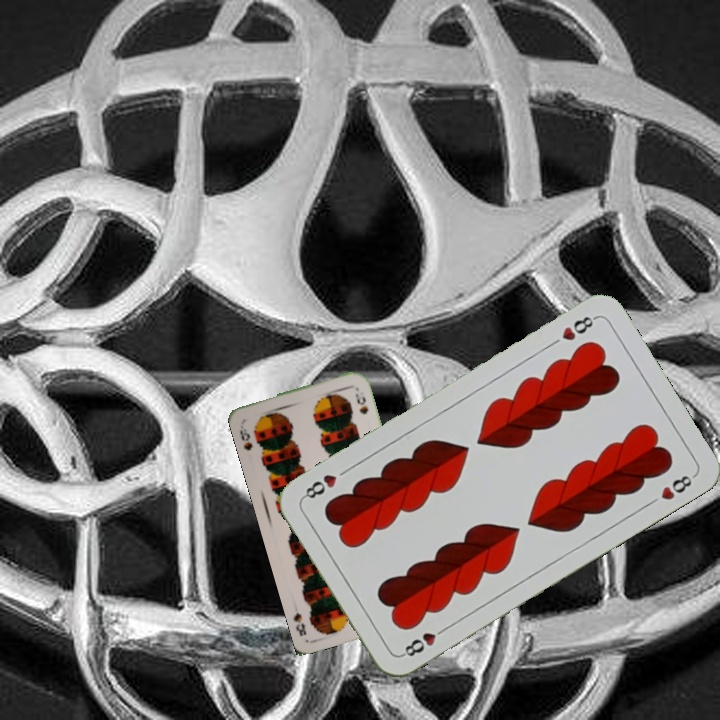H8: (397, 622, 450, 660), (557, 311, 599, 344)
S8: (235, 416, 255, 453)
